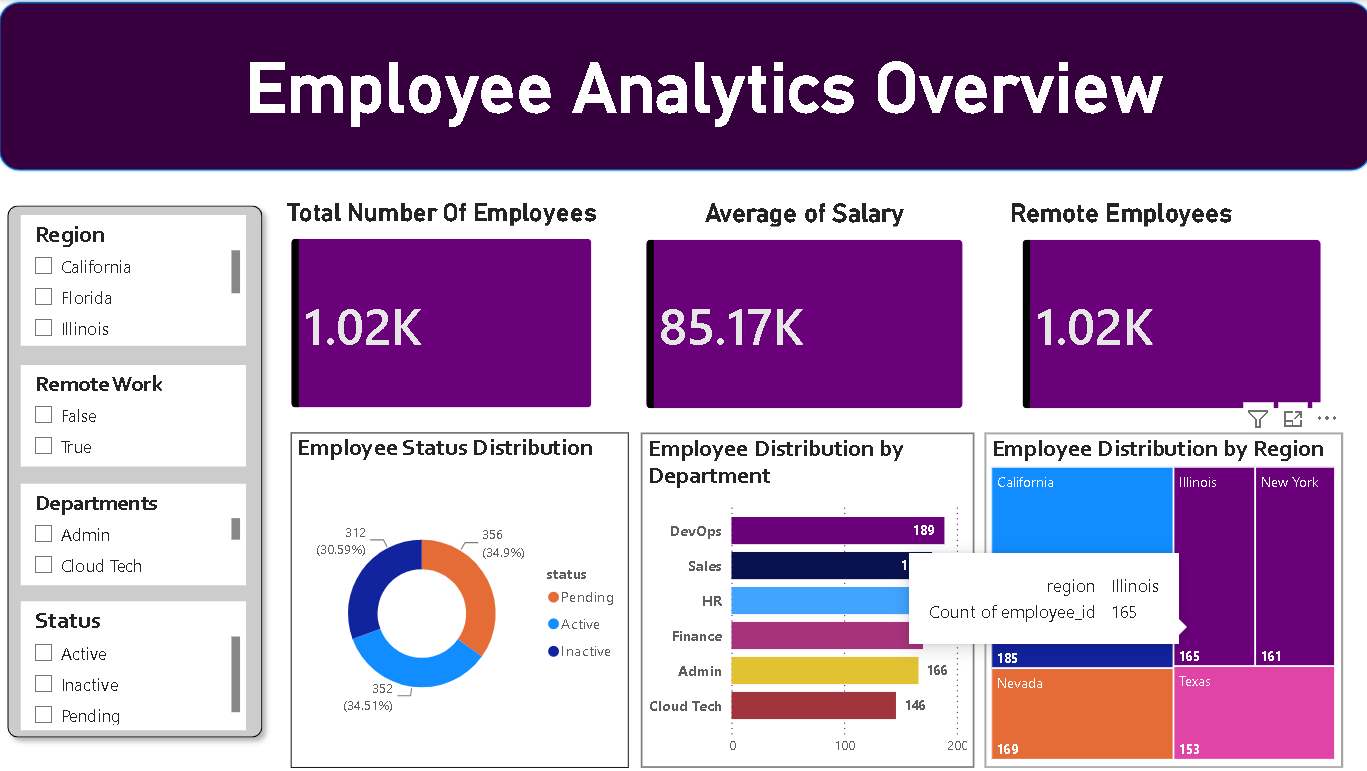

This screenshot's page, from the dashboard's own definition file:
{"tool":"powerbi","page":{"name":"Page 1","canvas":[1280,720],"ordinal":0},"visuals":[{"type":"shape","box":[0,0,1280.3,160.5],"z":0},{"type":"textbox","box":[131.7,19.2,1053.9,141.3],"z":1000},{"type":"cardVisual","title":"Total Number Of Employees","fields":{"Data":["Count(public employee_details.employee_id)"]},"box":[256.6,183.7,313.3,213.4],"z":2000},{"type":"cardVisual","title":"Average of Salary","fields":{"Data":["Avg(public employee_details.salary)"]},"box":[587.5,183.7,328.2,213.4],"z":3000},{"type":"cardVisual","title":"Remote Employees","fields":{"Data":["CountNonNull(public employee_details.remote_work)"]},"box":[937.2,183.7,312,213.4],"z":4000},{"type":"slicer","fields":{"Values":["public employee_details.age_group"]},"box":[21.6,199.9,209.3,133.7],"z":5000},{"type":"shape","box":[0,181,256.6,514.5],"z":6000},{"type":"slicer","fields":{"Values":["public employee_details.region"]},"box":[21.6,199.9,209.3,121.5],"z":7000},{"type":"slicer","fields":{"Values":["public employee_details.remote_work"]},"box":[21.6,339,209.3,94.5],"z":8000},{"type":"slicer","fields":{"Values":["public employee_details.department"]},"box":[21.6,449.7,209.3,94.5],"z":9000},{"type":"slicer","fields":{"Values":["public employee_details.status"]},"box":[21.6,559.1,209.3,120.2],"z":10000},{"type":"donutChart","title":"Employee Status Distribution","fields":{"Category":["public employee_details.status"],"Y":["Count(public employee_details.employee_id)"]},"box":[272.8,402.4,314.7,312],"z":11000},{"type":"clusteredBarChart","title":"Employee Distribution by Department","fields":{"Category":["public employee_details.department"],"Y":["Count(public employee_details.employee_id)"]},"box":[598.3,402.4,310.6,312],"z":12000},{"type":"treemap","title":"Employee Distribution by Region","fields":{"Group":["public employee_details.region"],"Values":["CountNonNull(public employee_details.employee_id)"]},"box":[918.3,402.4,333.6,312],"z":13000}]}

Visuals, with their boxes in screenshot pixels (x1, y1, x2, y2), scaled from the page's 1280x720 canvas onto the 1367x771 screenshot:
shape: BBox(0, 0, 1366, 172)
textbox: BBox(141, 21, 1266, 172)
"Total Number Of Employees" cardVisual: BBox(274, 197, 609, 425)
"Average of Salary" cardVisual: BBox(627, 197, 978, 425)
"Remote Employees" cardVisual: BBox(1001, 197, 1334, 425)
slicer - public employee_details.age_group: BBox(23, 214, 247, 357)
shape: BBox(0, 194, 274, 745)
slicer - public employee_details.region: BBox(23, 214, 247, 344)
slicer - public employee_details.remote_work: BBox(23, 363, 247, 464)
slicer - public employee_details.department: BBox(23, 482, 247, 583)
slicer - public employee_details.status: BBox(23, 599, 247, 727)
"Employee Status Distribution" donutChart: BBox(291, 431, 627, 765)
"Employee Distribution by Department" clusteredBarChart: BBox(639, 431, 971, 765)
"Employee Distribution by Region" treemap: BBox(981, 431, 1337, 765)
